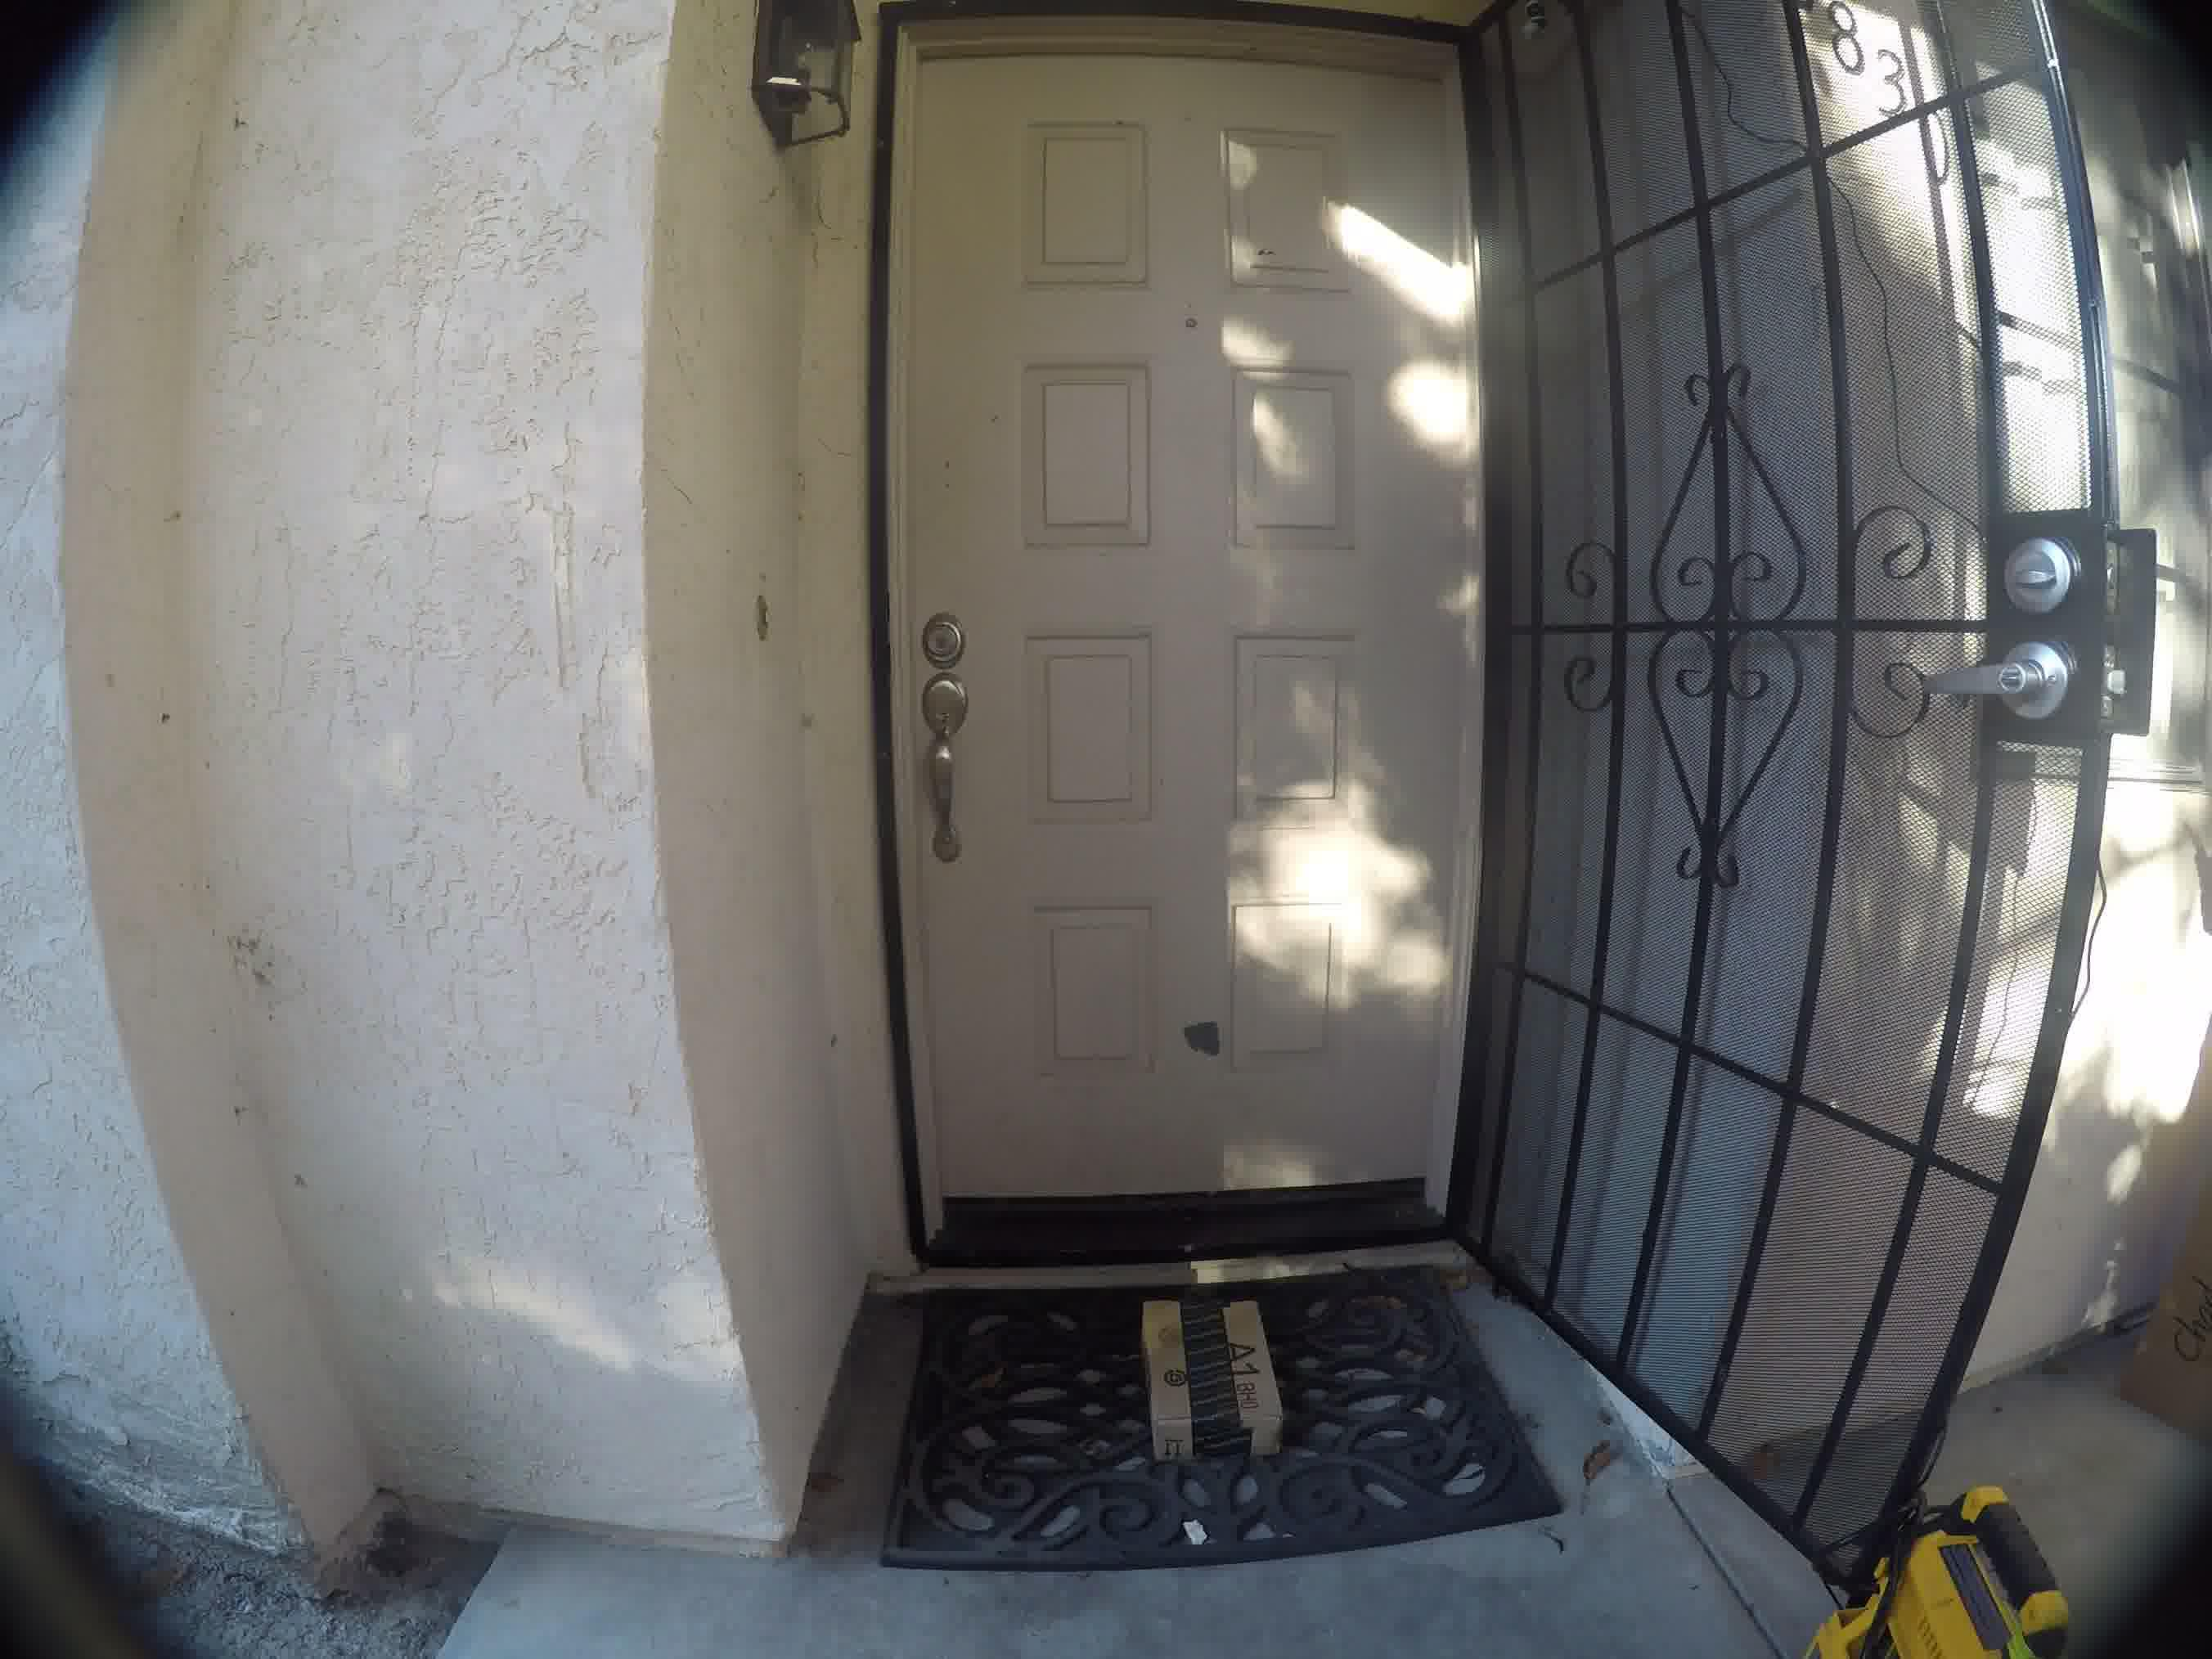box: (1125, 1290, 1298, 1474)
